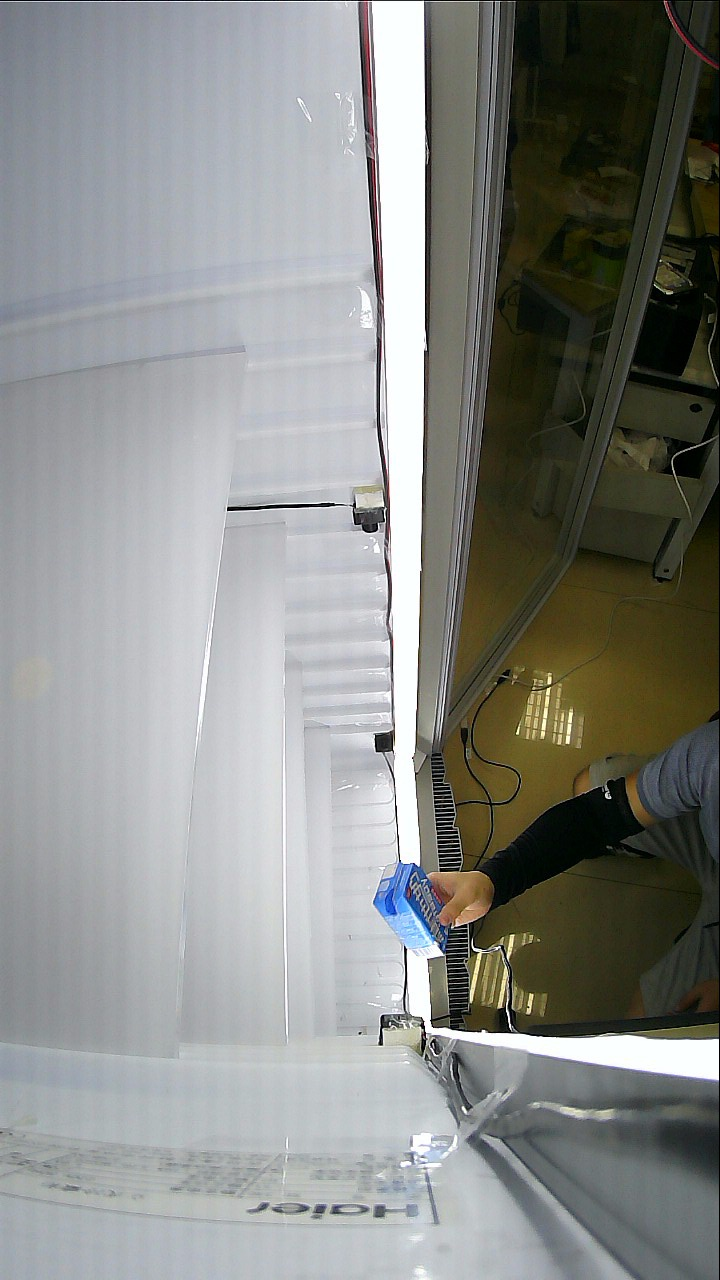VitaSoyOriginal: (378, 859, 521, 961)
